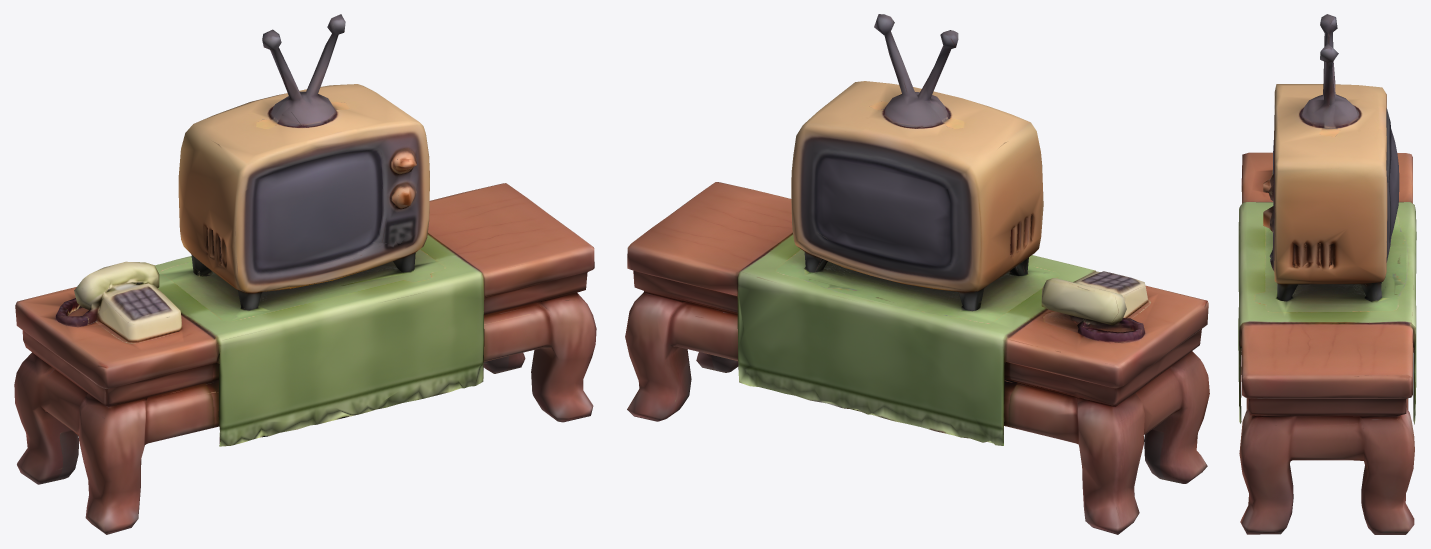
File: TelevisionTable.glb
3 renders of one model, left to right at view 1: azimuth 30°, elevation 25°; view 2: azimuth 150°, elevation 25°; view 3: azimuth 270°, elevation 25°, orthographic. The views are drawn at different scales.
Size of the model in its own units: 1.91 by 1.54 by 0.6303.
Materials: 1 (1 with a texture image).
